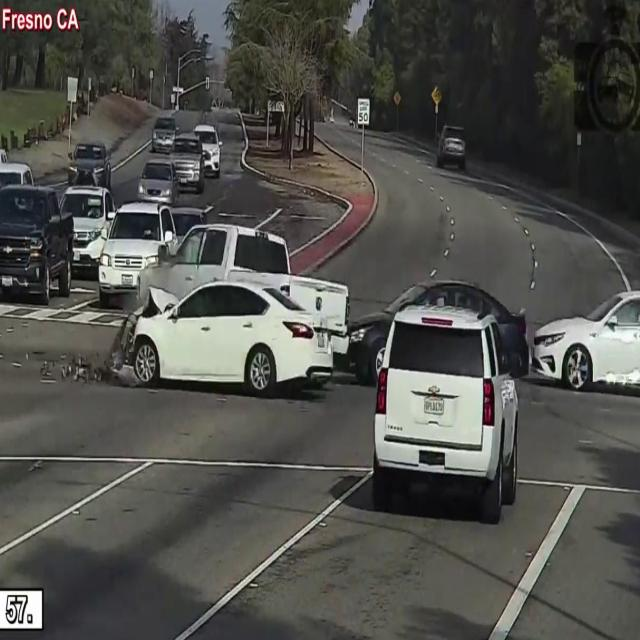accident: (104, 201, 356, 411)
non_accident: (0, 173, 111, 315), (141, 92, 224, 200)
